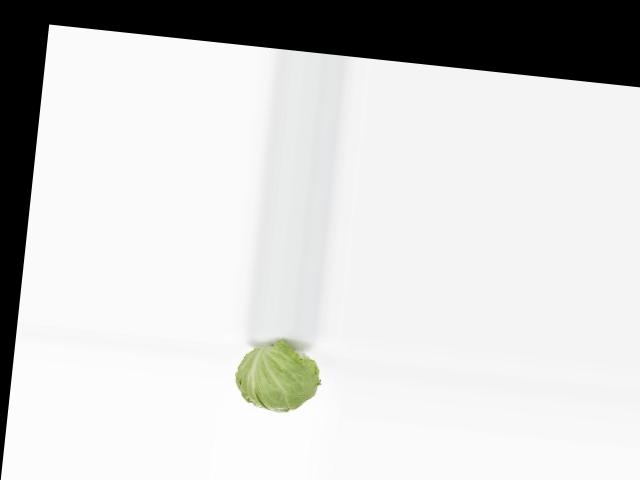lettuce: (227, 343, 326, 417)
